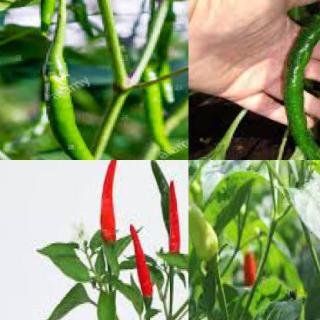green_chilli: (38, 59, 137, 160), (286, 0, 320, 159), (140, 68, 176, 156), (188, 200, 221, 265), (158, 15, 178, 104), (148, 160, 170, 232), (37, 0, 63, 41)
